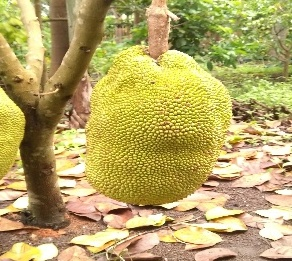Mit: (86, 45, 231, 206)
